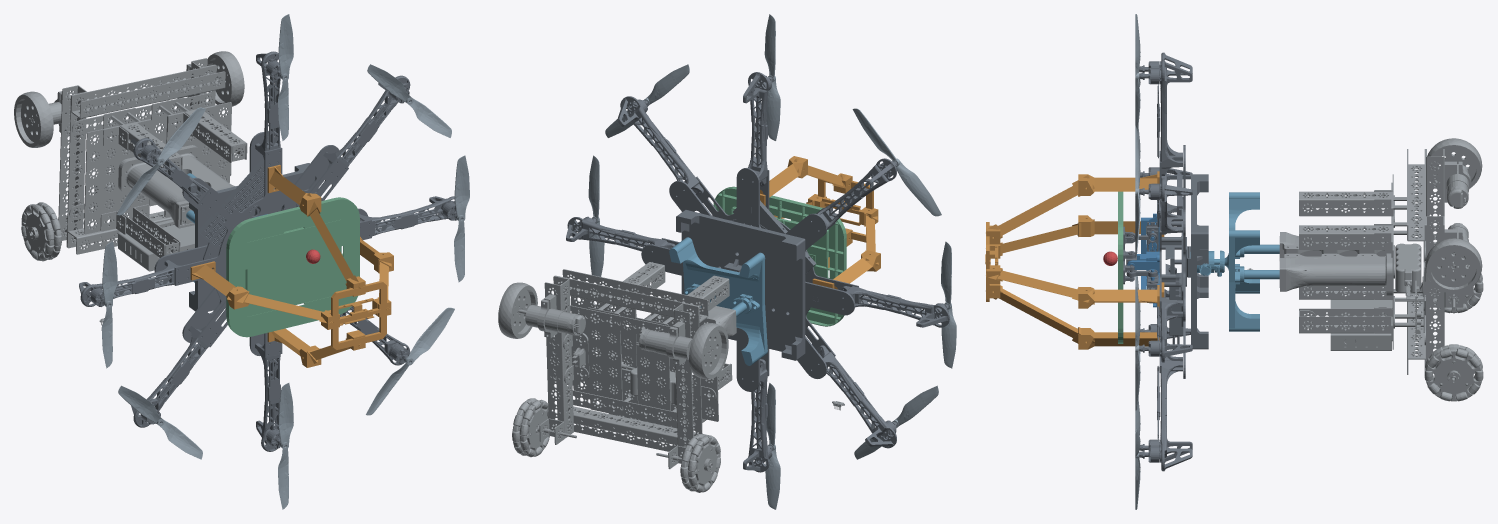
Rendered from junta nuevo de 8 motores con camara.glb.
3 views of the same model, side by side, from view 1: azimuth 30°, elevation 25°; view 2: azimuth 150°, elevation 25°; view 3: azimuth 270°, elevation 25° (orthographic).
Parts seen in each view (by area): view 1: 0369 REF pantalla:1, 0350 BANDEJA mesa mitad B:1, 0001 39068_TXM-288mmChannel v1:4, 0064 Estructura_rod v28:1, 0000 39068_TXM-288mmChannel v1:3, 0045 39073_TXM-FlatBuildingPlates v1:5, 0349 BANDEJA mesa mitad A:1, 0381 CAM nucleo v7:1, 0346 PISO2 Q2:1, 0031 36466_TXM-4 inch Dual Omni Wheel v1:2, 0020 39055_TXM-4 inch Wheel v1:2, 0330 M7 - diagonal 225 grados (1):1 (+40 smaller); view 2: 0080 Base.ipt:1, 0068 Estructura_superior v15:1, 0001 39068_TXM-288mmChannel v1:4, 0003 39068_TXM-288mmChannel v1:2, 0002 39068_TXM-288mmChannel v1:1, 0009 39073_TXM-FlatBuildingPlates v1:1, 0000 39068_TXM-288mmChannel v1:3, 0350 BANDEJA mesa mitad B:1, 0335 IMPRIMIBLE base_Q2:1, 0326 M7 - diagonal 225 grados:1, 0328 M5 - diagonal 45 grados:1, 0010 39073_TXM-FlatBuildingPlates v1:2 (+37 smaller); view 3: 0064 Estructura_rod v28:1, 0068 Estructura_superior v15:1, 0030 36466_TXM-4 inch Dual Omni Wheel v1:1, 0019 39055_TXM-4 inch Wheel v1:1, 0080 Base.ipt:1, 0057 39067_TXM-160mmChannel v1:3, 0056 39067_TXM-160mmChannel v1:2, 0055 39067_TXM-160mmChannel v1:1, 0332 M5 - diagonal 45 grados (1):1, 0003 39068_TXM-288mmChannel v1:2, 0157 P11 caja de control myRIO (3):2, 0327 M8 - diagonal 315 grados:1 (+24 smaller).
Part boxes in pixels (x1,y1,x2,y2): 0369 REF pantalla:1: [246, 219, 341, 316]; 0350 BANDEJA mesa mitad B:1: [226, 208, 294, 337]; 0001 39068_TXM-288mmChannel v1:4: [71, 65, 225, 118]; 0064 Estructura_rod v28:1: [118, 145, 234, 228]; 0000 39068_TXM-288mmChannel v1:3: [58, 85, 86, 246]; 0045 39073_TXM-FlatBuildingPlates v1:5: [83, 126, 118, 234]; 0349 BANDEJA mesa mitad A:1: [292, 197, 359, 325]; 0381 CAM nucleo v7:1: [319, 275, 391, 350]; 0346 PISO2 Q2:1: [204, 147, 342, 227]; 0031 36466_TXM-4 inch Dual Omni Wheel v1:2: [21, 202, 61, 261]; 0020 39055_TXM-4 inch Wheel v1:2: [14, 91, 53, 147]; 0330 M7 - diagonal 225 grados (1):1: [255, 343, 286, 451]; 0080 Base.ipt:1: [676, 210, 805, 360]; 0068 Estructura_superior v15:1: [669, 237, 767, 365]; 0001 39068_TXM-288mmChannel v1:4: [555, 269, 708, 322]; 0003 39068_TXM-288mmChannel v1:2: [544, 276, 573, 438]; 0002 39068_TXM-288mmChannel v1:1: [568, 406, 711, 451]; 0009 39073_TXM-FlatBuildingPlates v1:1: [587, 307, 622, 415]; 0000 39068_TXM-288mmChannel v1:3: [674, 303, 702, 455]; 0350 BANDEJA mesa mitad B:1: [778, 198, 846, 326]; 0335 IMPRIMIBLE base_Q2:1: [747, 168, 855, 305]; 0326 M7 - diagonal 225 grados:1: [816, 345, 897, 448]; 0328 M5 - diagonal 45 grados:1: [617, 96, 703, 197]; 0010 39073_TXM-FlatBuildingPlates v1:2: [636, 317, 671, 426]; 0064 Estructura_rod v28:1: [1280, 232, 1392, 295]; 0068 Estructura_superior v15:1: [1214, 192, 1259, 331]; 0030 36466_TXM-4 inch Dual Omni Wheel v1:1: [1424, 344, 1483, 401]; 0019 39055_TXM-4 inch Wheel v1:1: [1425, 238, 1482, 293]; 0080 Base.ipt:1: [1191, 174, 1208, 349]; 0057 39067_TXM-160mmChannel v1:3: [1299, 308, 1392, 333]; 0056 39067_TXM-160mmChannel v1:2: [1299, 191, 1392, 216]; 0055 39067_TXM-160mmChannel v1:1: [1299, 225, 1392, 249]; 0332 M5 - diagonal 45 grados (1):1: [1139, 59, 1192, 175]; 0003 39068_TXM-288mmChannel v1:2: [1426, 216, 1444, 361]; 0157 P11 caja de control myRIO (3):2: [1330, 299, 1391, 350]; 0327 M8 - diagonal 315 grados:1: [1139, 357, 1192, 471].
Size of the model in its own units: 0.758 by 0.9388 by 0.8502.
